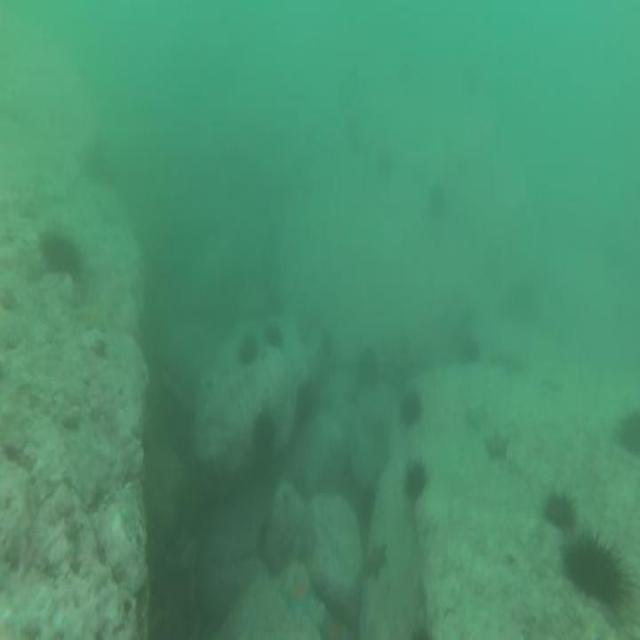echinus: (562, 530, 628, 614), (38, 226, 86, 289), (540, 484, 582, 537), (402, 457, 428, 509), (251, 408, 281, 453), (618, 403, 640, 463), (396, 384, 424, 431), (354, 344, 380, 388), (424, 177, 448, 221), (261, 316, 288, 354), (295, 379, 317, 425), (355, 482, 377, 526), (373, 142, 395, 182), (234, 330, 258, 365), (460, 62, 482, 100), (460, 333, 482, 370)
starfish: (281, 571, 316, 621), (481, 424, 513, 469), (359, 540, 391, 584)
